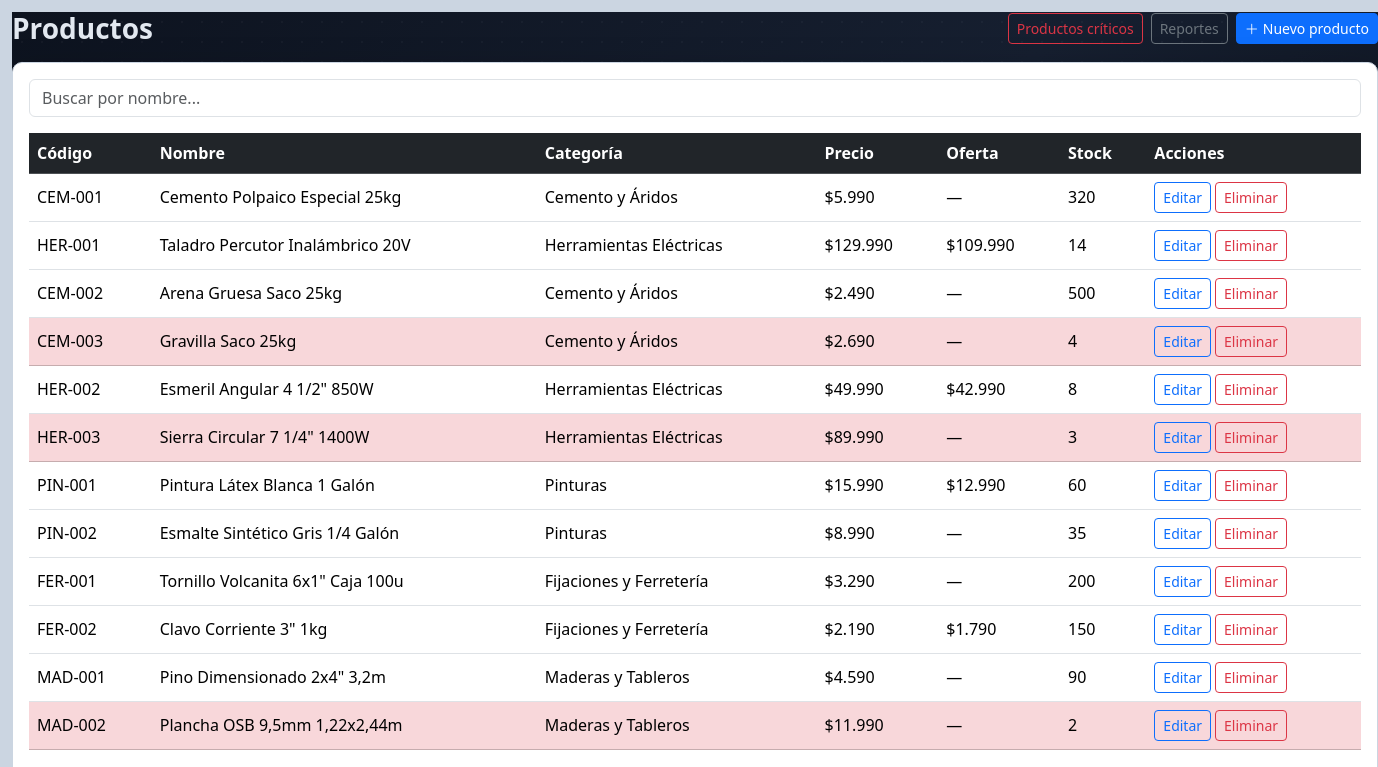
Pruebas de eventos con mocks: panel admin y checkout › eliminar un producto pide confirmación (window.confirm simulado) y lo quita de la tabla
The width and height of the screenshot is (1378, 767).
Click the button "Eliminar" in the row of "CEM-003" at (1251, 341), box [1215, 326, 1287, 357]
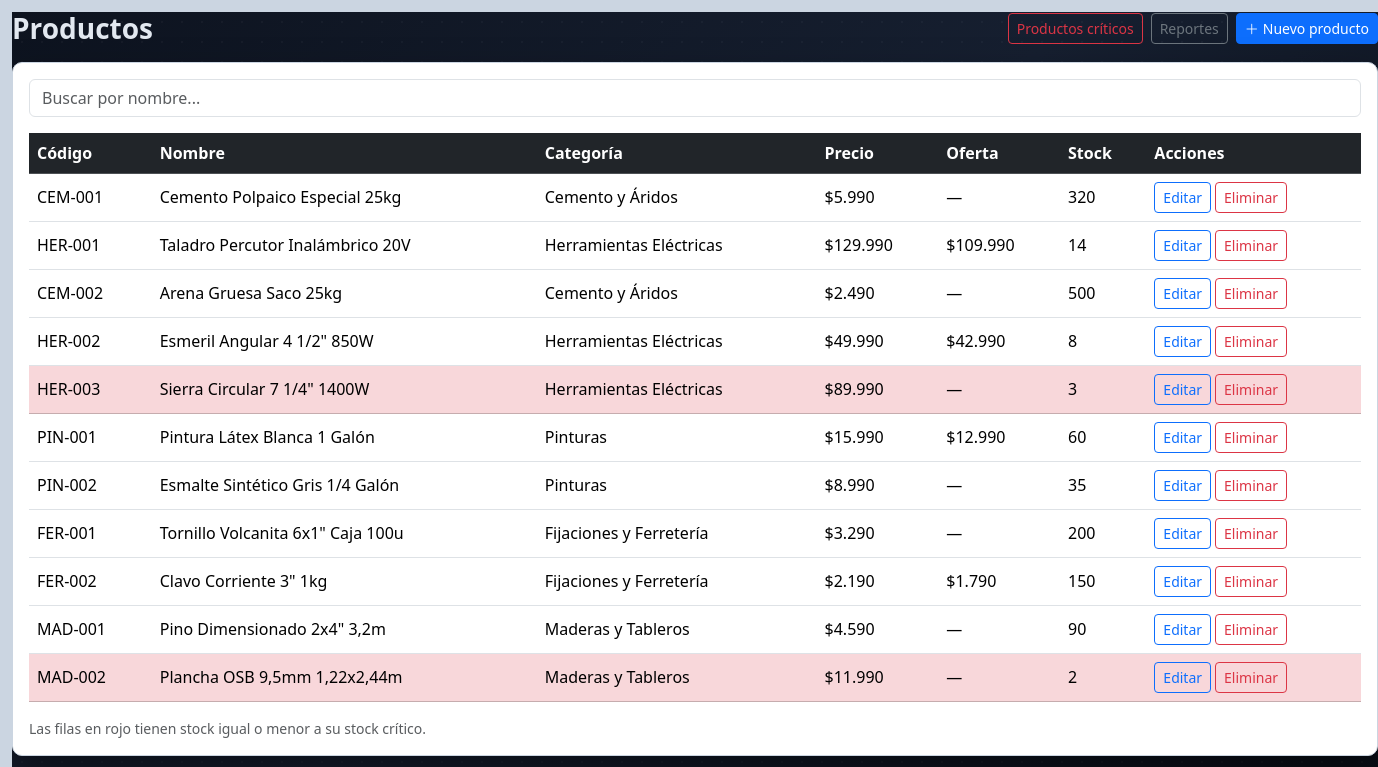
Check: the text "Gravilla Saco 25kg" is gone
